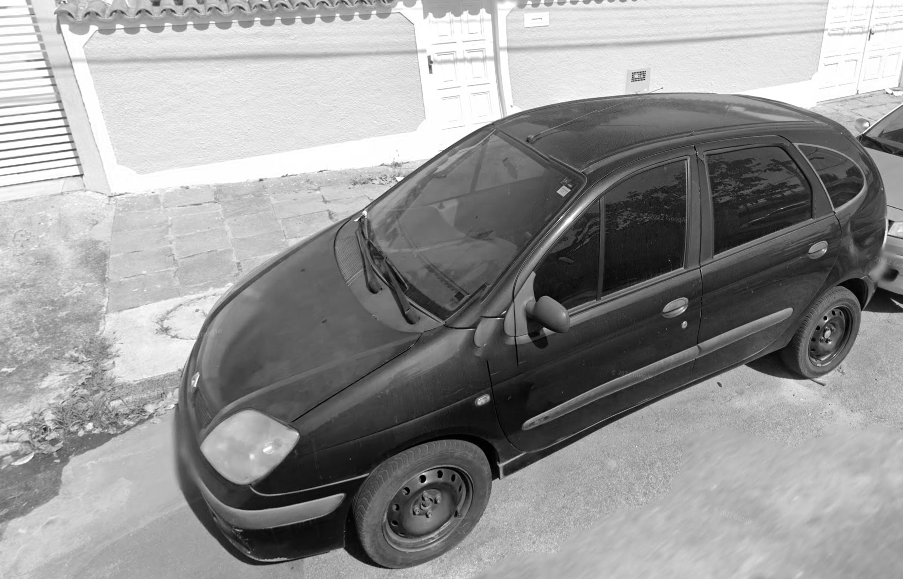car: (173, 91, 887, 569)
